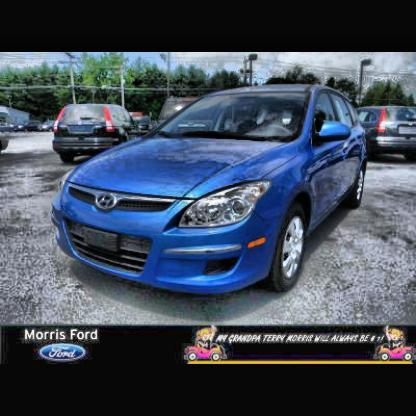Hyundai Elantra Touring Hatchback 2012: (49, 84, 369, 302)
